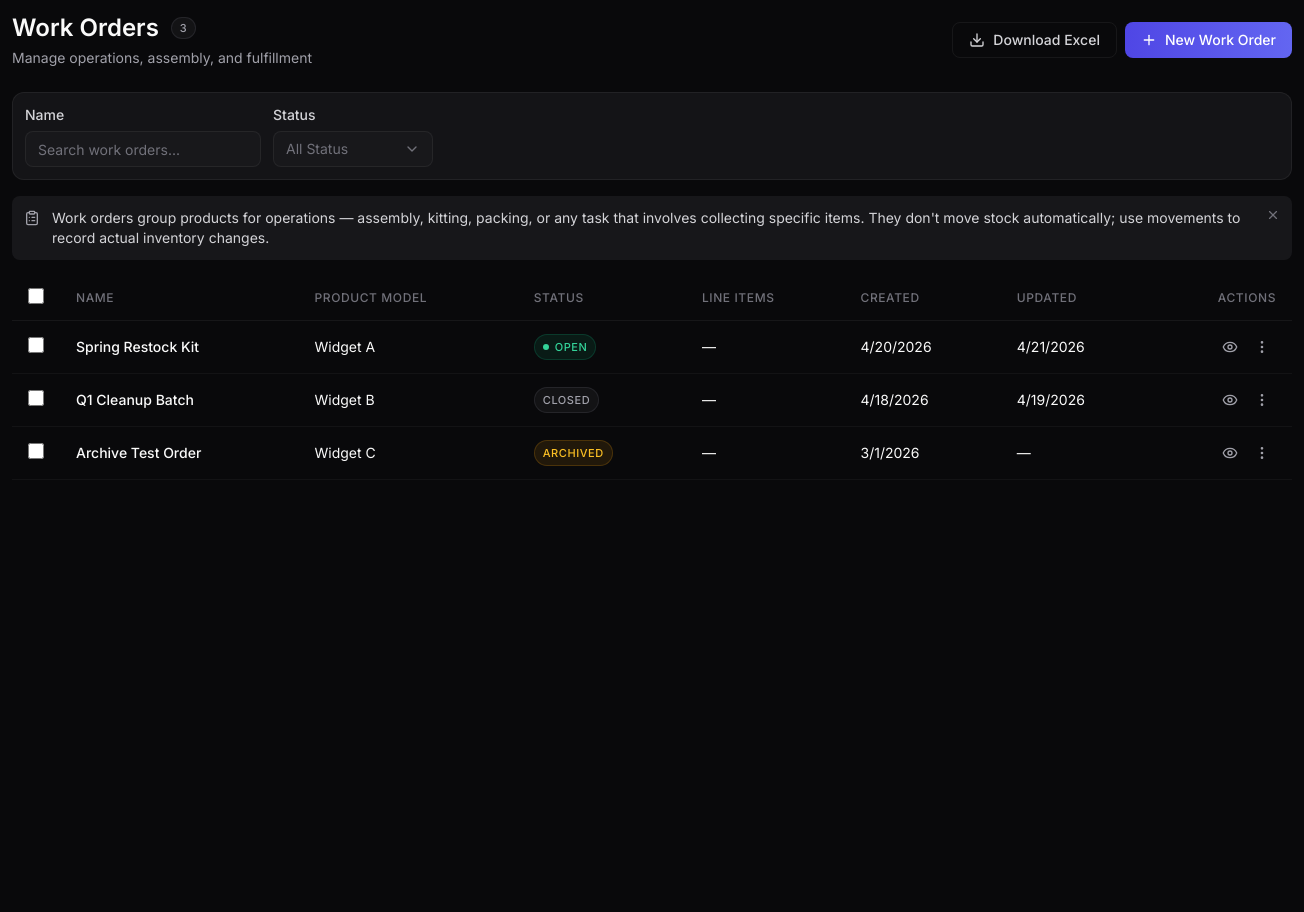
WorkOrderList › collapses expanded row on second click
Click the button titled "Expand contents" in the row of "Spring Restock Kit".
click(1230, 347)  # box left=1216, top=333, right=1244, bottom=361
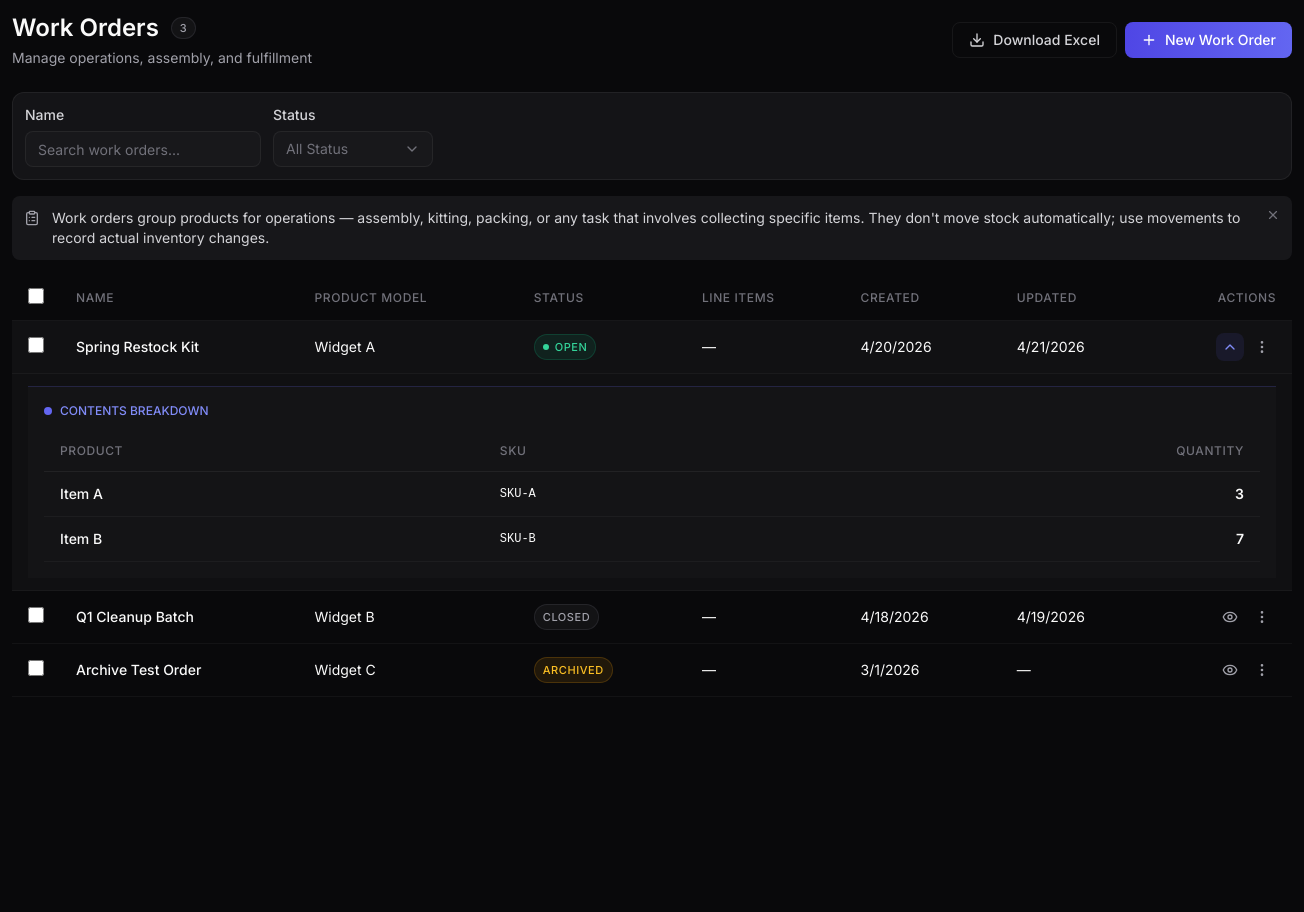
Check: the heading "Contents Breakdown" is shown, box left=44, top=403, right=208, bottom=418
Click the button titled "Collapse".
click(1230, 347)  # box left=1216, top=333, right=1244, bottom=361
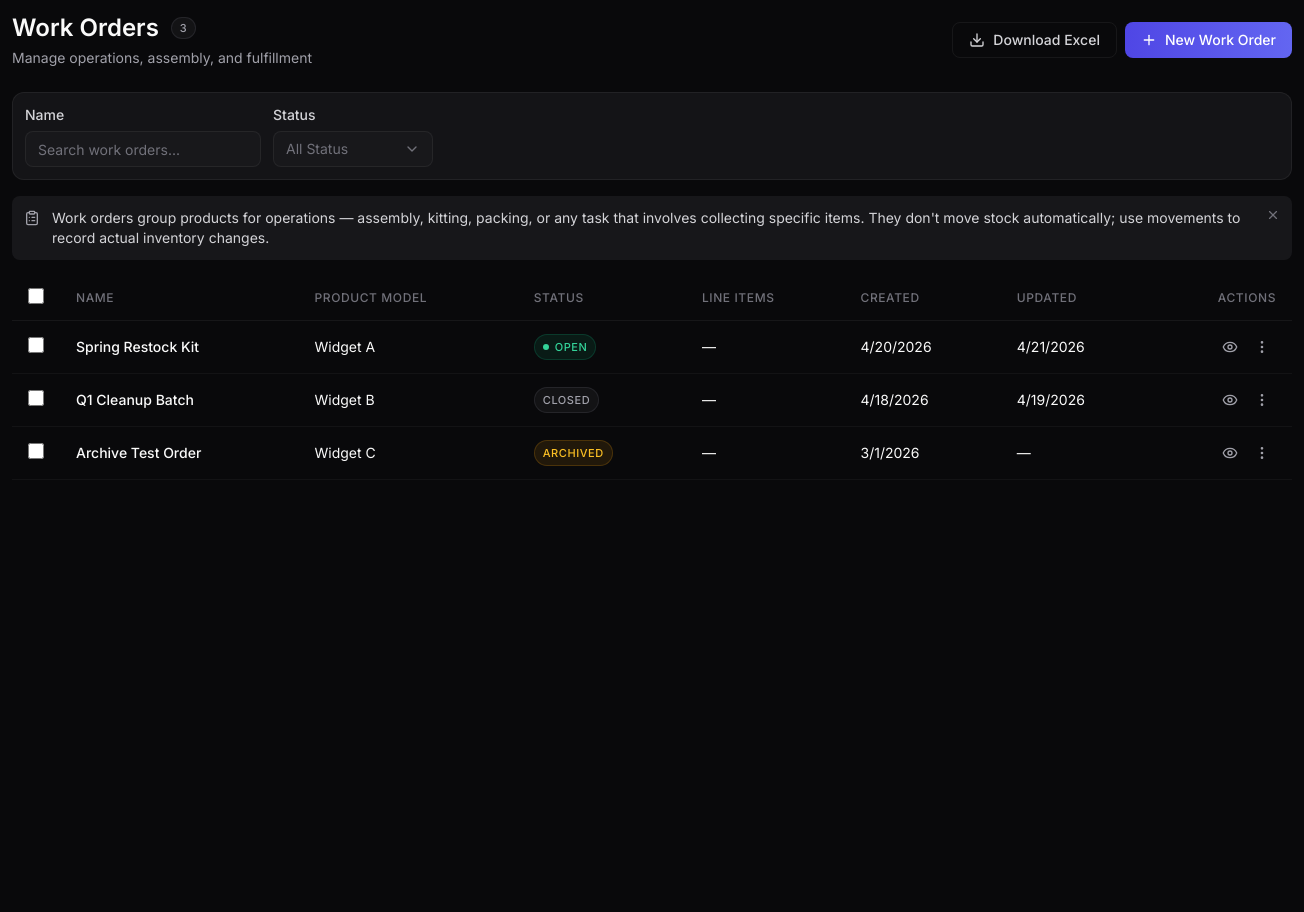
Check: the heading "Contents Breakdown" is gone
